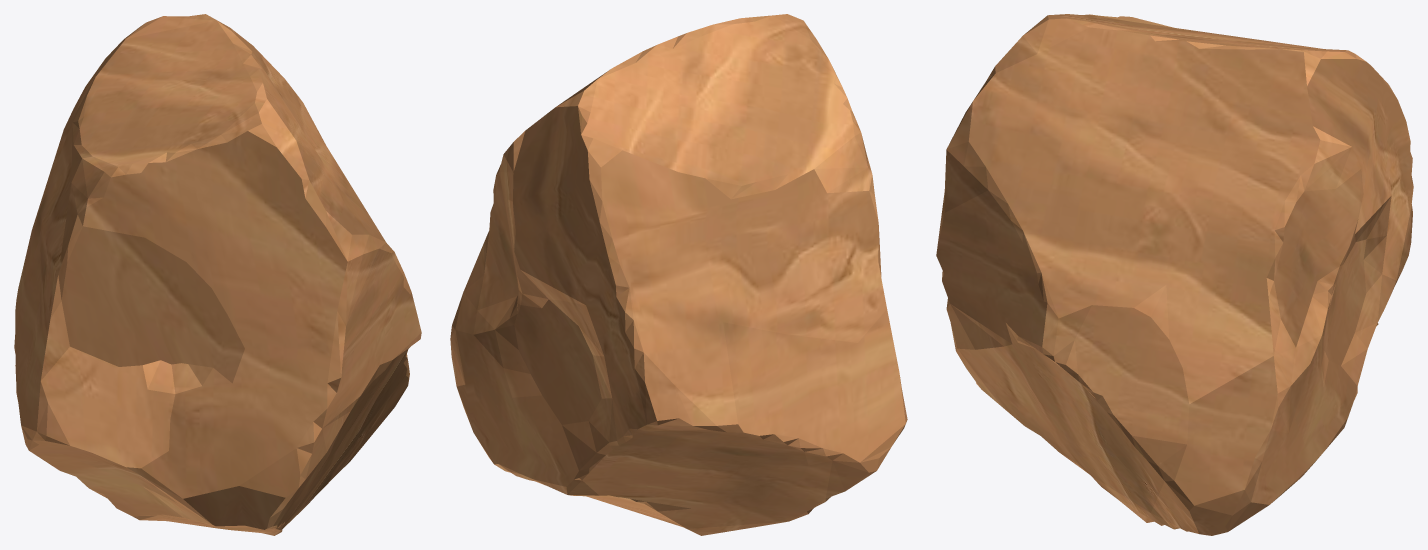
Rendered from rock1.glb.
3 renders of one model, left to right at view 1: azimuth 30°, elevation 25°; view 2: azimuth 150°, elevation 25°; view 3: azimuth 270°, elevation 25°, orthographic. The views are drawn at different scales.
Parts seen in each view (by area): view 1: Cube; view 2: Cube; view 3: Cube.
Part boxes in pixels (bbox=[...]): Cube: bbox=[14, 14, 421, 535]; Cube: bbox=[450, 14, 907, 535]; Cube: bbox=[936, 14, 1413, 535].
Bounding box in the file's own units: 1.85 × 2.15 × 1.95.
Materials: 1 (1 with a texture image).
